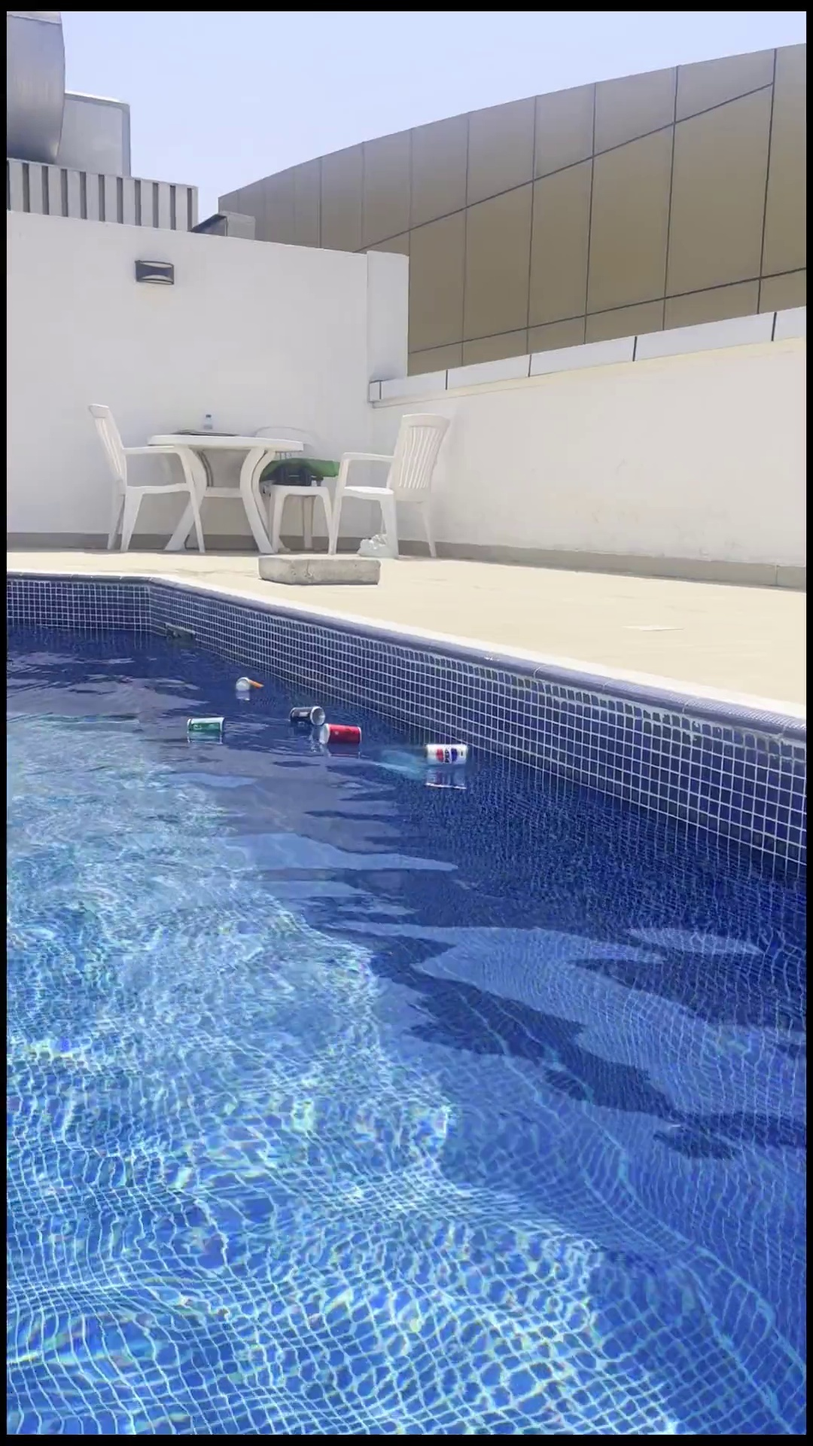debris: (420, 724, 470, 783), (313, 709, 364, 763), (183, 705, 224, 759), (230, 658, 266, 709), (286, 688, 322, 735)
